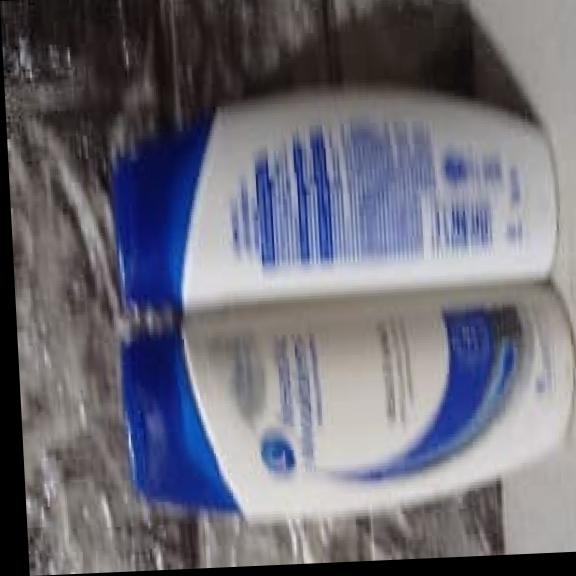Plastik: (109, 53, 576, 527)
